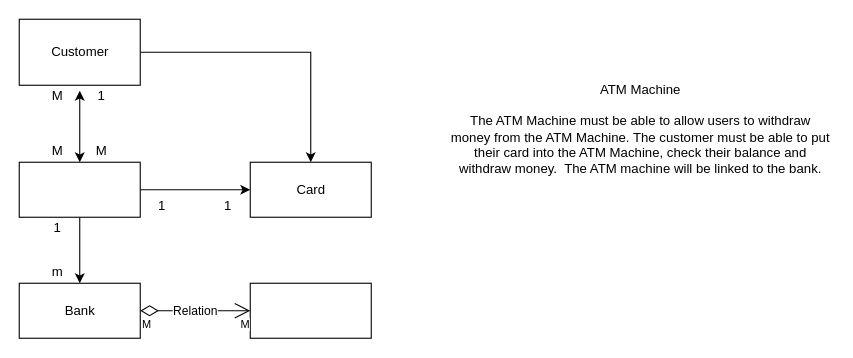
Image size: 853x358. Some labels were removed from this diagram. Each missing label, with the box of its shape:
ATM: (249, 282, 371, 338)
Customer Bank account: (18, 161, 140, 217)
